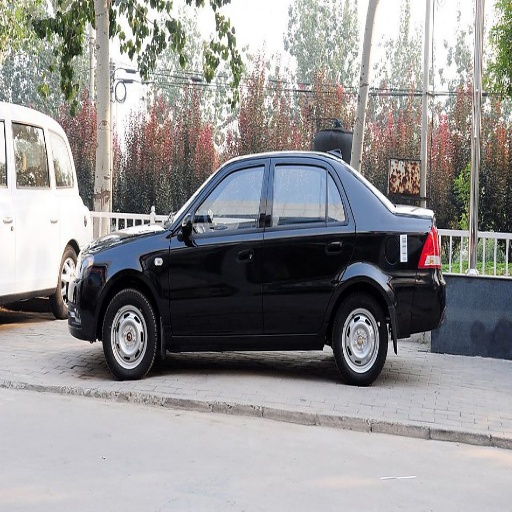back_left_door: (261, 158, 351, 333)
